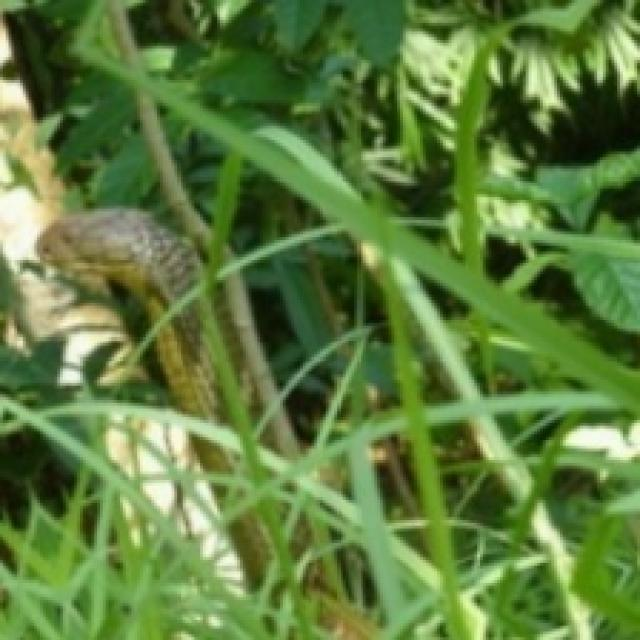king cobra: (37, 209, 374, 637)
